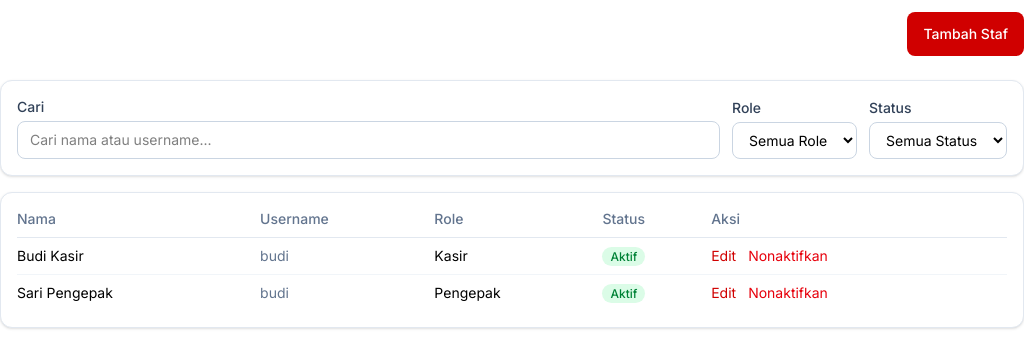
Test: StaffPage › filter role -- cuma nampilin staf sesuai role yang dipilih
Expected: the text "Budi Kasir" is shown, left=17, top=238, right=260, bottom=274
Select "Pengepak" in the dropdown labelled "Role" at (794,140), box left=732, top=122, right=857, bottom=159
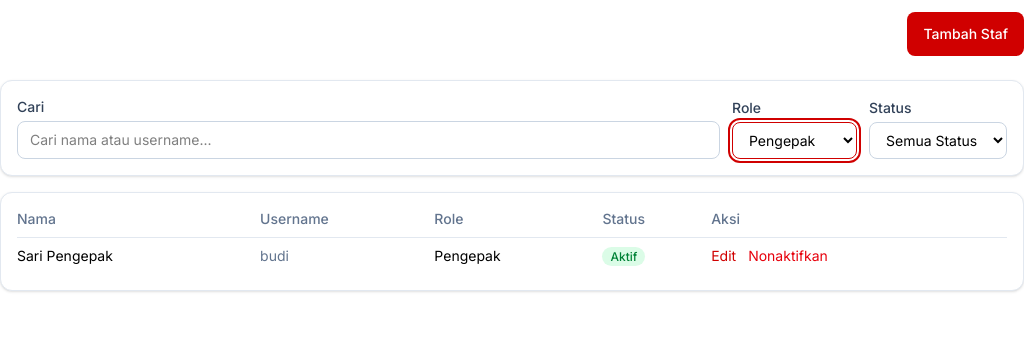
Expected: the text "Sari Pengepak" is shown, left=17, top=238, right=260, bottom=274
Now the text "Budi Kasir" is gone
